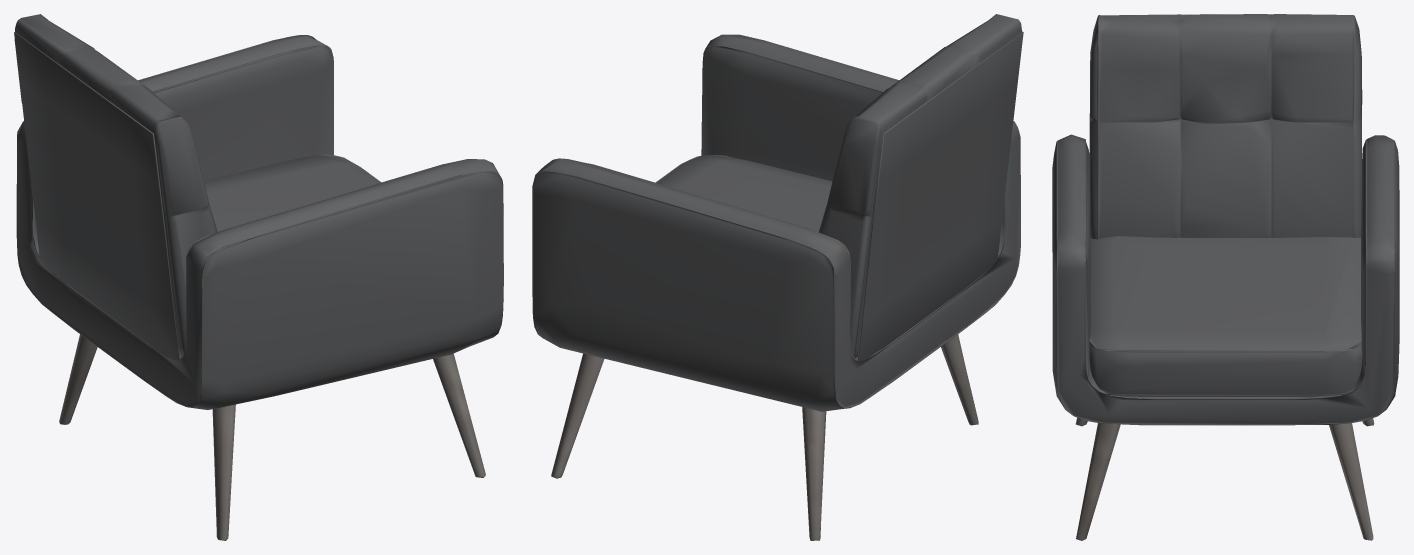
The model's file is armchair.glb.
The picture shows the model from 3 angles, left to right: view 1: azimuth 30°, elevation 25°; view 2: azimuth 150°, elevation 25°; view 3: azimuth 270°, elevation 25°; orthographic projection. The views are drawn at different scales.
Visible parts, largest first — view 1: armchair; view 2: armchair; view 3: armchair.
Boxes of the visible parts, <box> form: armchair: <box>14,14,503,540</box>; armchair: <box>532,14,1023,540</box>; armchair: <box>1052,14,1399,540</box>.
Bounding box in the file's own units: 0.6934 × 0.8499 × 0.6906.
Materials: 1 (1 with a texture image).
